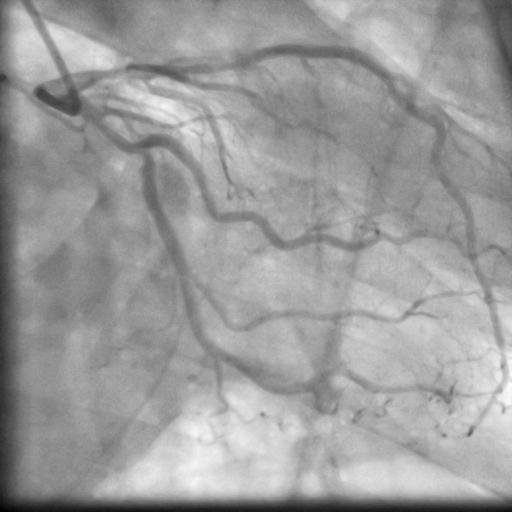Stenosis: (202, 53, 255, 72)
